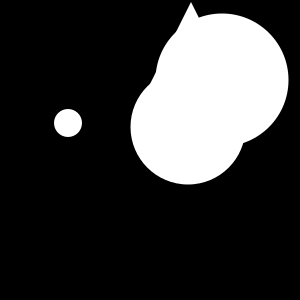rectangle: (156, 13, 288, 146), (131, 70, 246, 184), (54, 109, 82, 137)
triangle: (133, 2, 249, 118)
